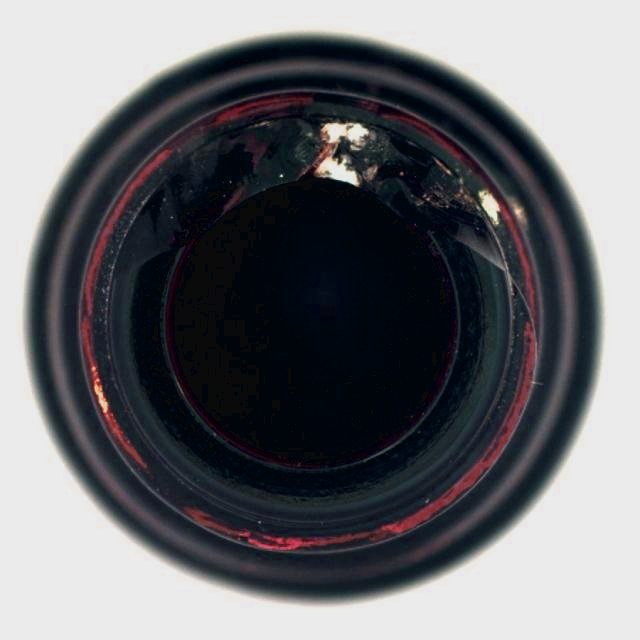bad-broken_small: (22, 31, 606, 607)
